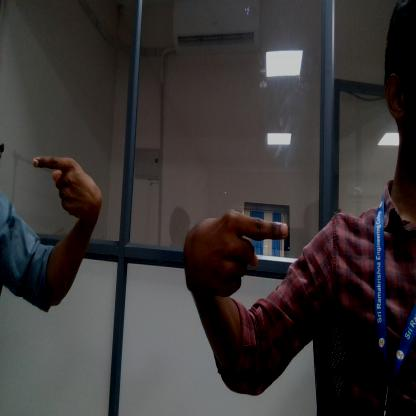Left: (184, 208, 289, 299)
Right: (30, 146, 108, 230)
